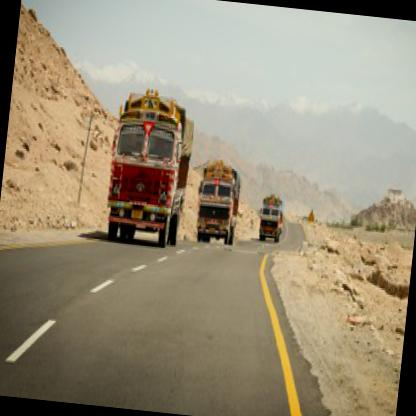truck: (104, 85, 196, 249), (193, 162, 242, 245), (257, 192, 285, 240)
